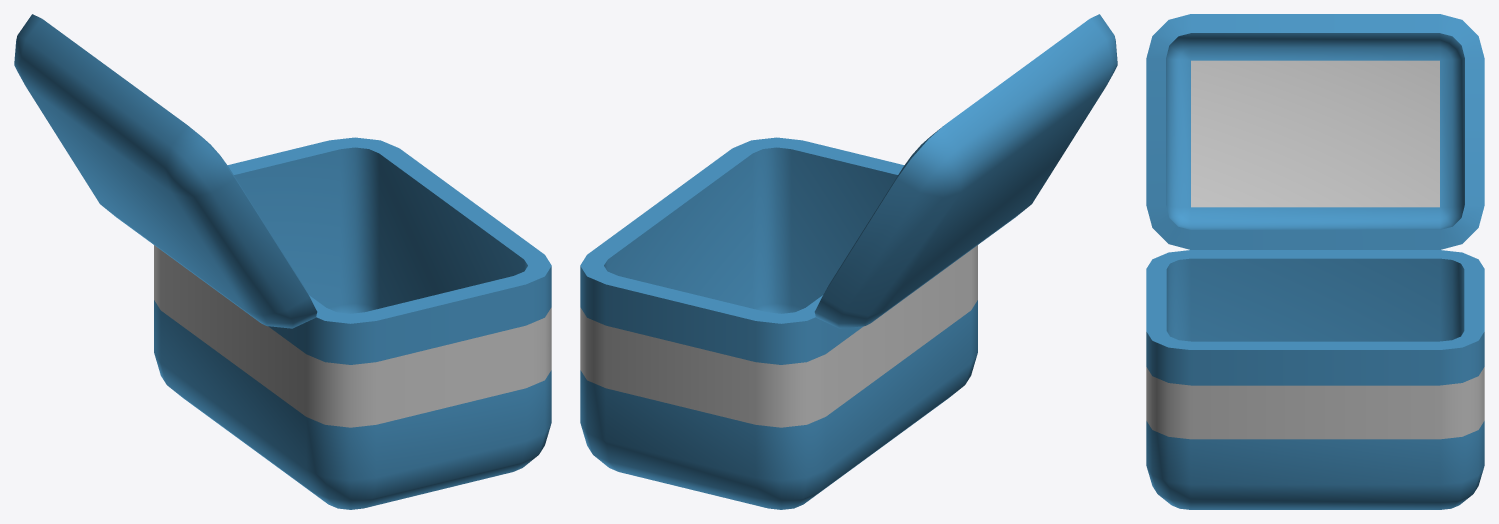
Rendered from DrinkBox.fbx.
3 renders of one model, left to right at view 1: azimuth 30°, elevation 25°; view 2: azimuth 150°, elevation 25°; view 3: azimuth 270°, elevation 25°, orthographic. The views are drawn at different scales.
Parts seen in each view (by area): view 1: Cube; view 2: Cube; view 3: Cube.
Boxes of the visible parts, box(x1,y1,x2,y2) form: Cube: box(14, 14, 551, 509); Cube: box(580, 14, 1117, 509); Cube: box(1146, 14, 1484, 509).
Bounding box in the file's own units: 318 × 336 × 286.
